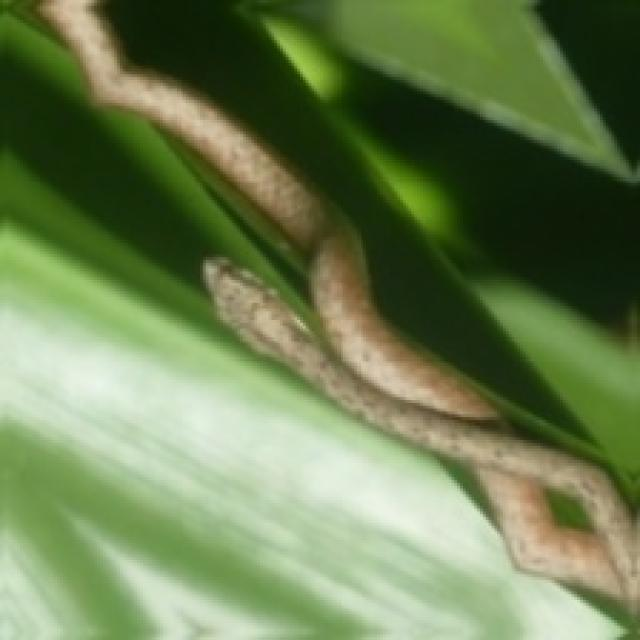philippine whip snake: (40, 0, 637, 614)
